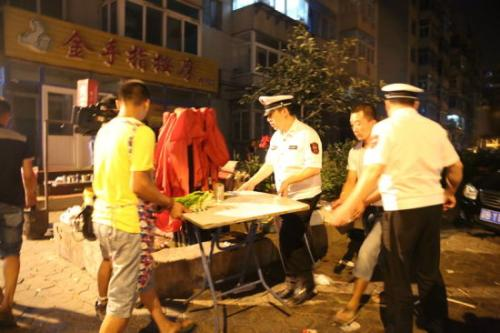vendors: (166, 179, 310, 329)
